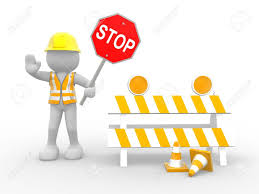stop sign: (92, 15, 139, 63)
